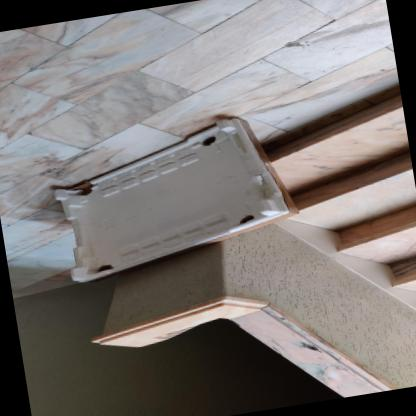Paper: (87, 118, 297, 281), (69, 180, 92, 193)
Waste: (52, 117, 288, 281)
